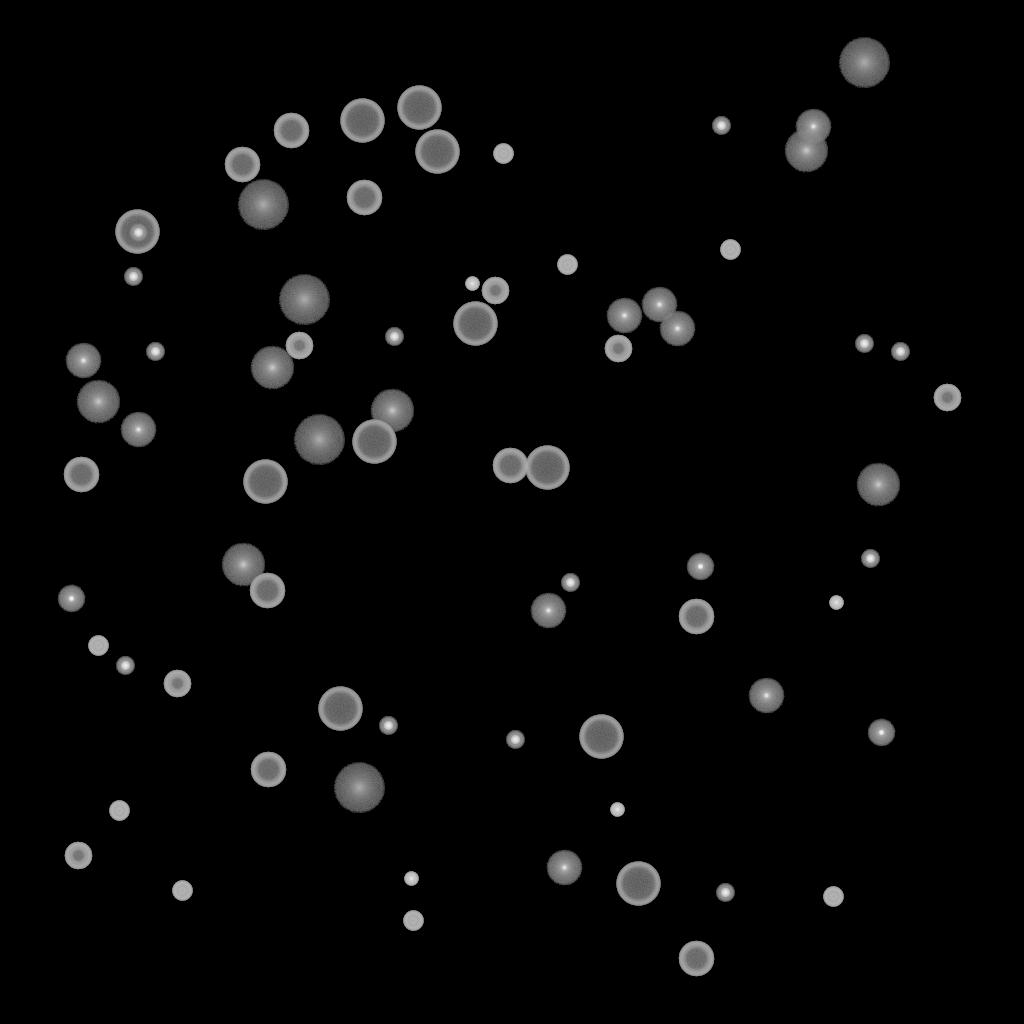depth:-10: (686, 553, 714, 581), (867, 719, 895, 747), (57, 585, 85, 613)
depth:-20: (716, 884, 734, 902), (561, 574, 579, 592), (129, 224, 147, 242), (506, 731, 524, 749), (116, 657, 134, 675), (146, 343, 164, 361), (124, 268, 142, 286), (385, 328, 403, 346), (379, 717, 397, 735), (712, 117, 730, 135), (891, 343, 909, 361), (861, 550, 879, 568), (855, 335, 873, 353)
depth:-30: (610, 803, 624, 817), (829, 596, 843, 610), (465, 277, 479, 291), (404, 872, 418, 886)
depth:-40: (172, 881, 192, 901), (109, 801, 129, 821), (557, 255, 577, 275), (493, 144, 513, 164), (823, 887, 843, 907), (403, 911, 423, 931), (720, 240, 740, 260), (88, 636, 108, 656)
depth:-50: (933, 384, 961, 412), (64, 842, 92, 870), (604, 335, 632, 363), (285, 332, 313, 360), (481, 277, 509, 305), (163, 670, 191, 698)
depth:-60: (273, 113, 309, 149), (678, 941, 714, 977), (249, 573, 285, 609), (63, 457, 99, 493), (224, 147, 260, 183), (678, 599, 714, 635), (492, 448, 528, 484), (346, 180, 382, 216), (250, 752, 286, 788)
depth:-70: (352, 420, 396, 464), (318, 687, 362, 731), (579, 715, 623, 759), (243, 460, 287, 504), (453, 302, 497, 346), (525, 446, 569, 490), (397, 86, 441, 130), (340, 99, 384, 143), (616, 862, 660, 906), (415, 130, 459, 174), (115, 210, 159, 254)
depth:0: (530, 593, 566, 629), (120, 412, 156, 448), (748, 678, 784, 714), (606, 298, 642, 334), (659, 311, 695, 347), (641, 287, 677, 323), (546, 850, 582, 886), (795, 109, 831, 145), (65, 343, 101, 379)
depth:10: (250, 346, 294, 390), (221, 543, 265, 587), (784, 129, 828, 173), (370, 389, 414, 433), (856, 463, 900, 507), (76, 380, 120, 424)
depth:20: (237, 180, 289, 230), (278, 275, 330, 325), (333, 763, 385, 813), (838, 38, 890, 88), (293, 415, 345, 465)
